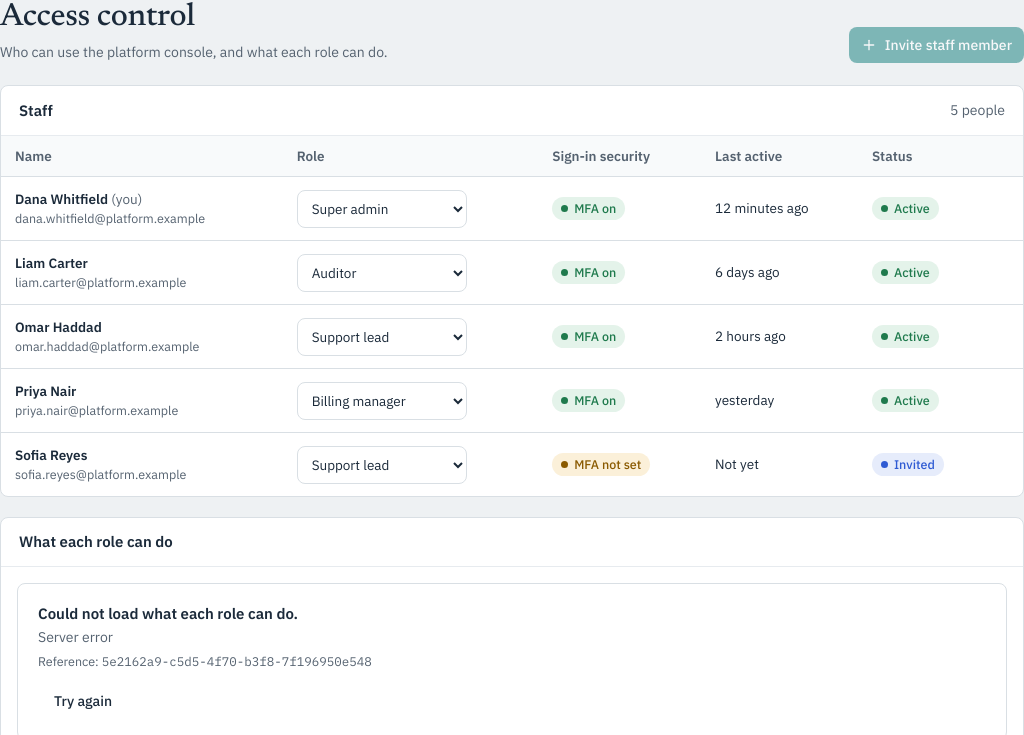
Test: AccessPage: what each role can do › shows its own error with Try again, while the staff still show
Expected: the heading "Could not load what each role can do." is shown, left=38, top=604, right=298, bottom=623
Click the button "Try again".
click(83, 701)  # box left=38, top=683, right=128, bottom=719
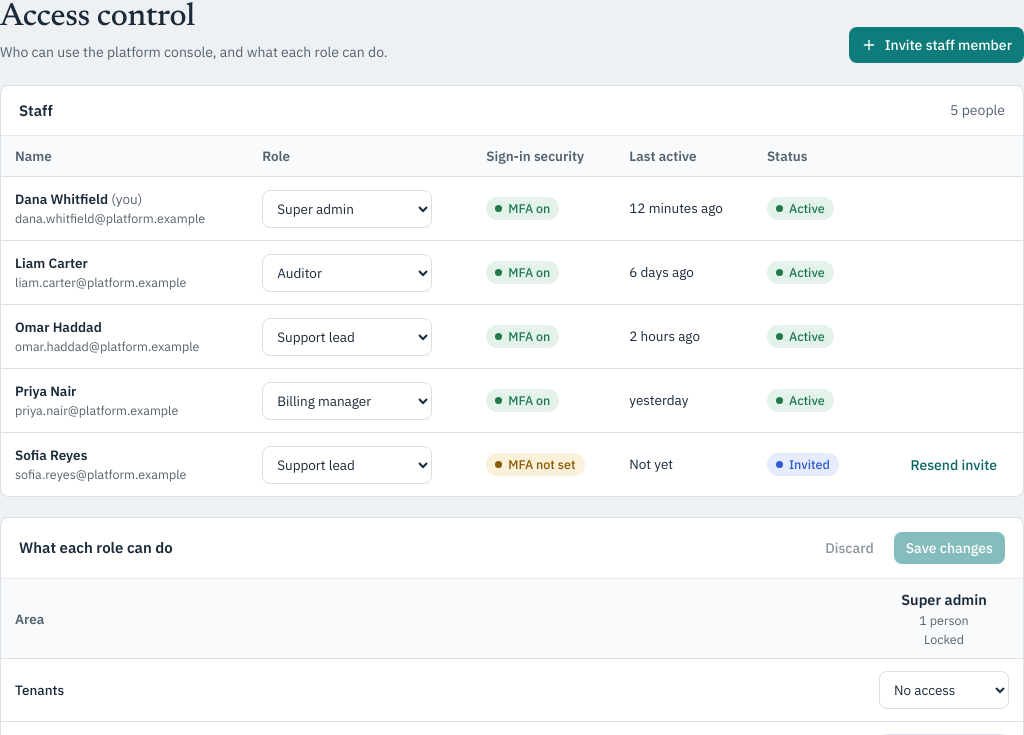
Result: the column heading "Super admin 1 person Locked" is shown at left=865, top=579, right=1023, bottom=659
